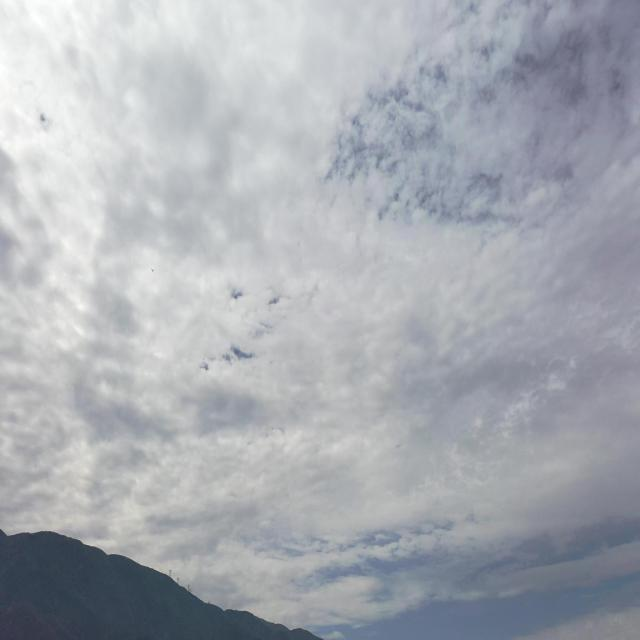Birds: (148, 264, 158, 275)
